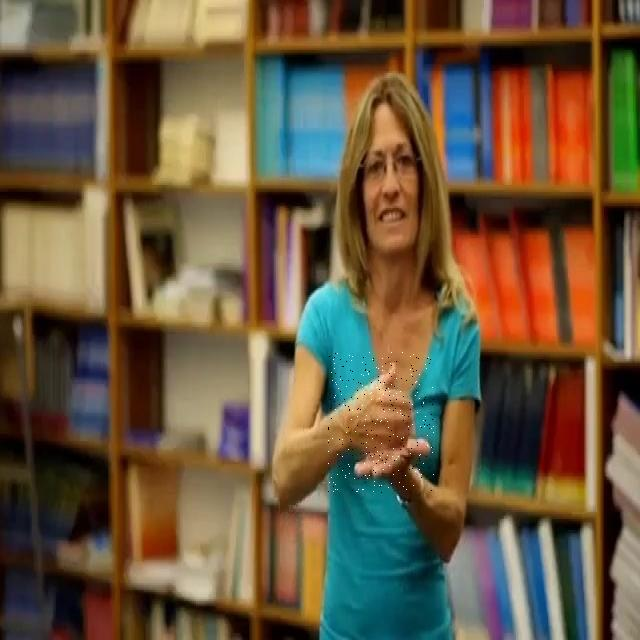cup: (328, 352, 434, 493)
